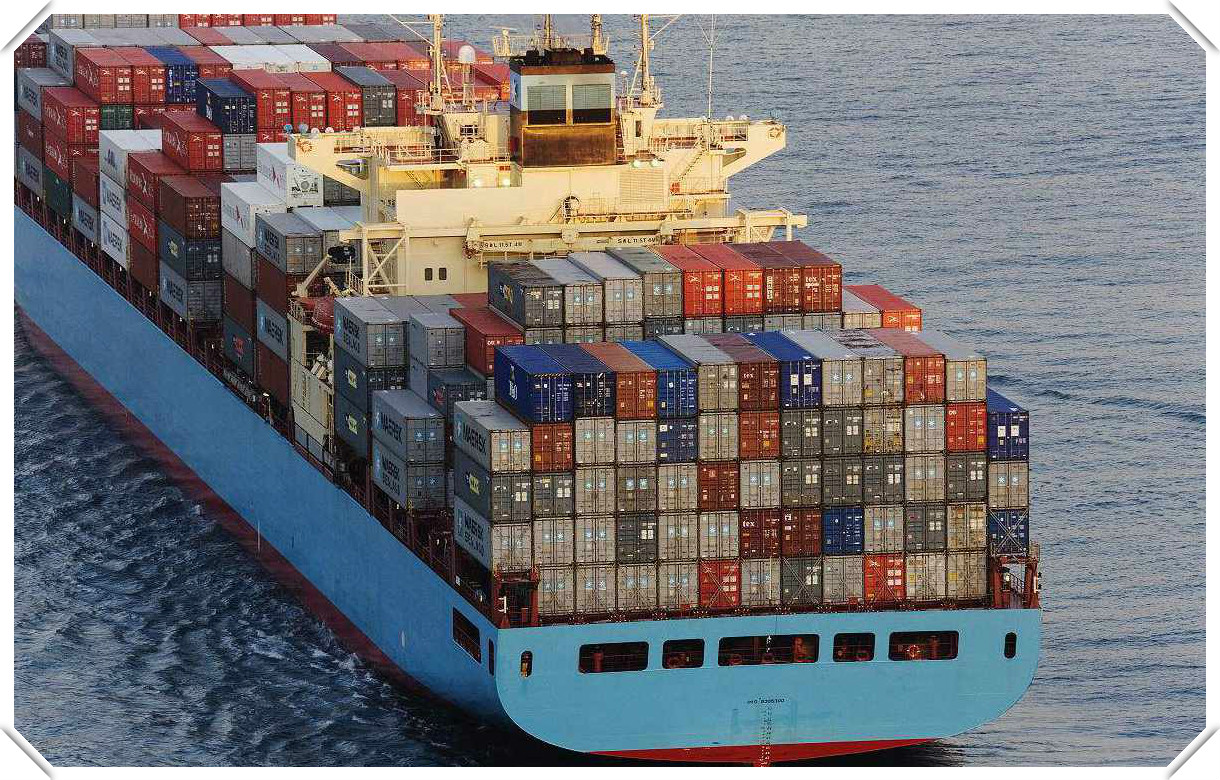Cargoship: (8, 1, 1053, 758)
